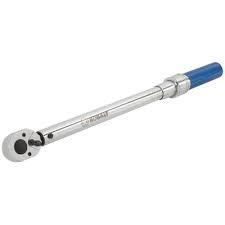wrench: (0, 59, 224, 164)
